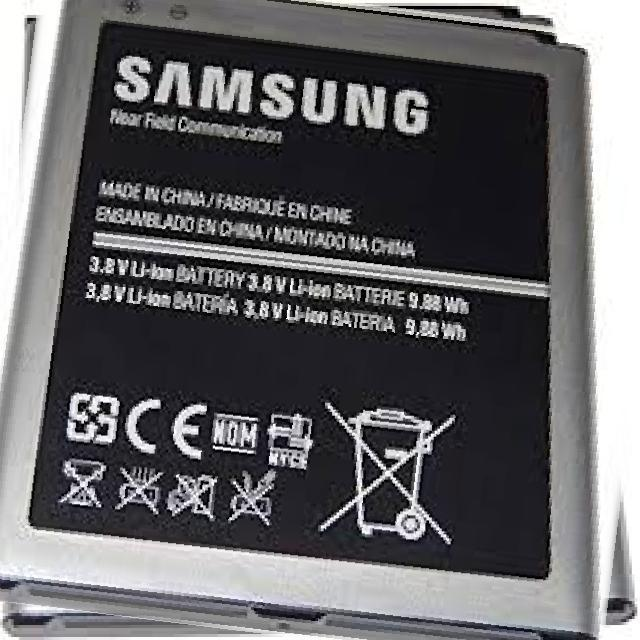Battery: (2, 0, 601, 633)
